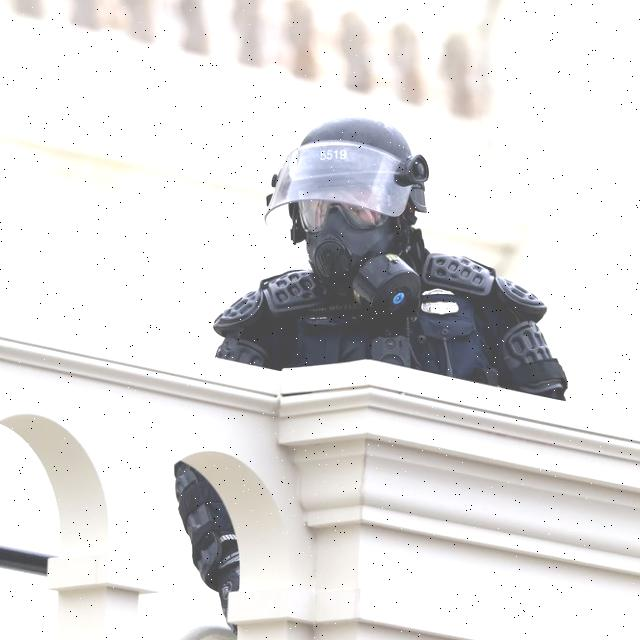police: (157, 86, 571, 616)
